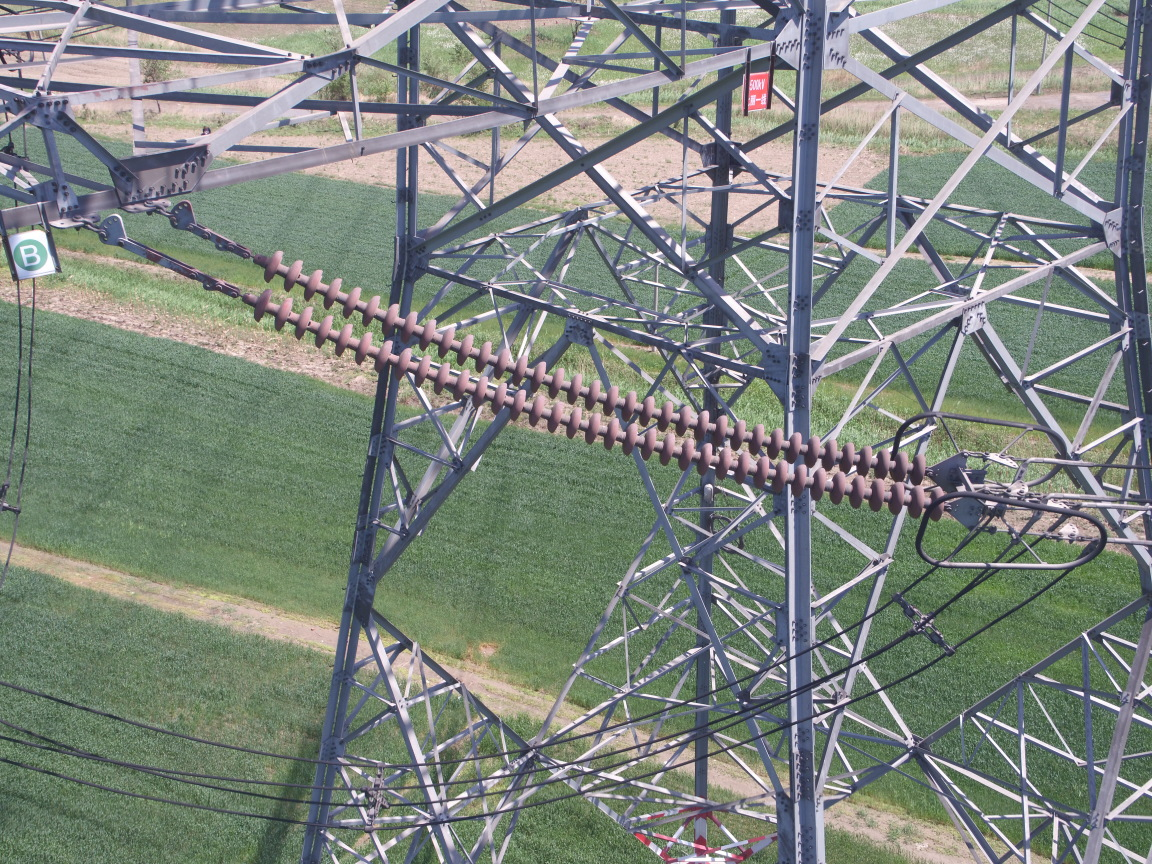insulator: (221, 236, 954, 524)
